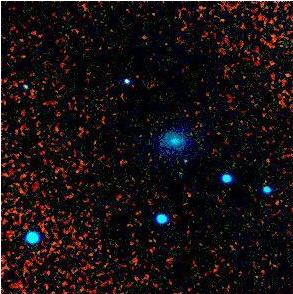star: (169, 146, 199, 176)
